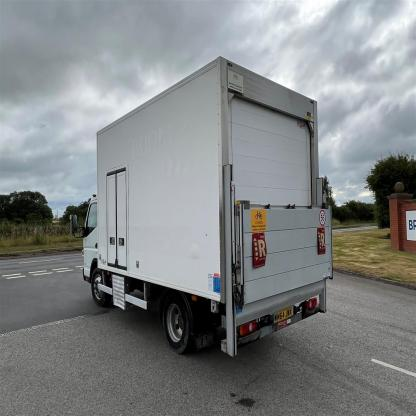truck: (70, 56, 334, 359)
